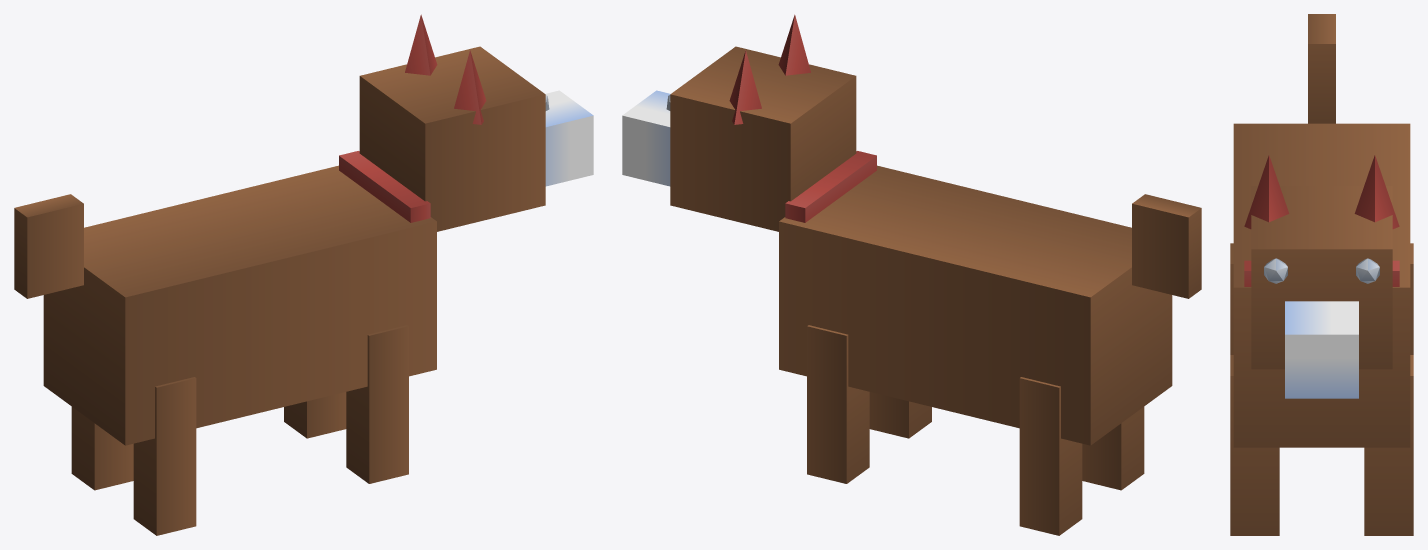
The model's file is dog.fbx.
3 renders of one model, left to right at view 1: azimuth 30°, elevation 25°; view 2: azimuth 150°, elevation 25°; view 3: azimuth 270°, elevation 25°, orthographic. The views are drawn at different scales.
Parts seen in each view (by area): view 1: dog; view 2: dog; view 3: dog.
Boxes of the visible parts, x1=… form: dog: x1=14, y1=14, x2=593, y2=535; dog: x1=622, y1=14, x2=1201, y2=535; dog: x1=1230, y1=14, x2=1413, y2=535.
Size of the model in its own units: 500 by 337 by 132.
